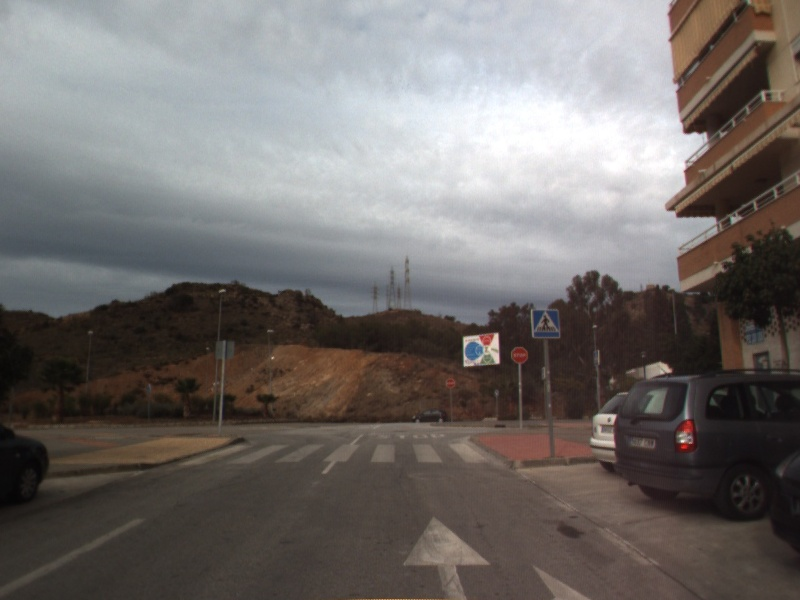STRAIGHT: (400, 513, 495, 600)
